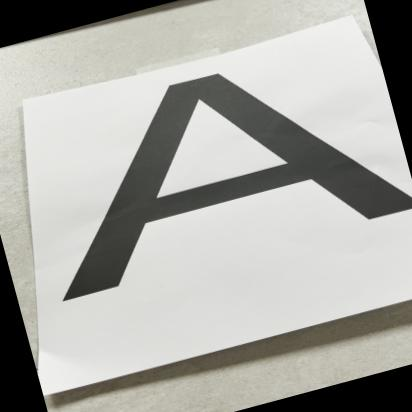seat: (10, 21, 412, 366)
